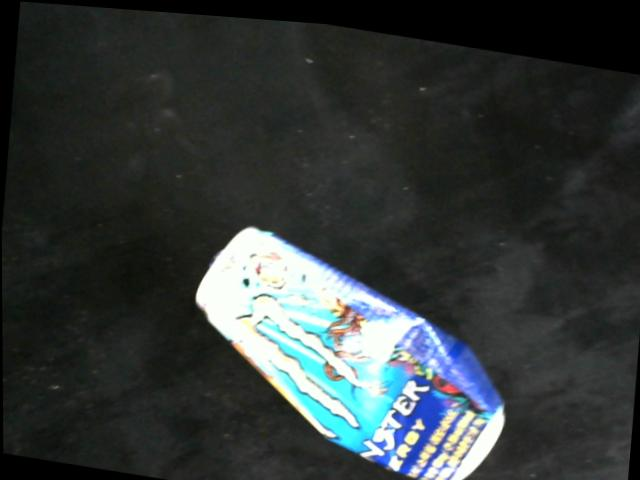can: (193, 215, 507, 479)
